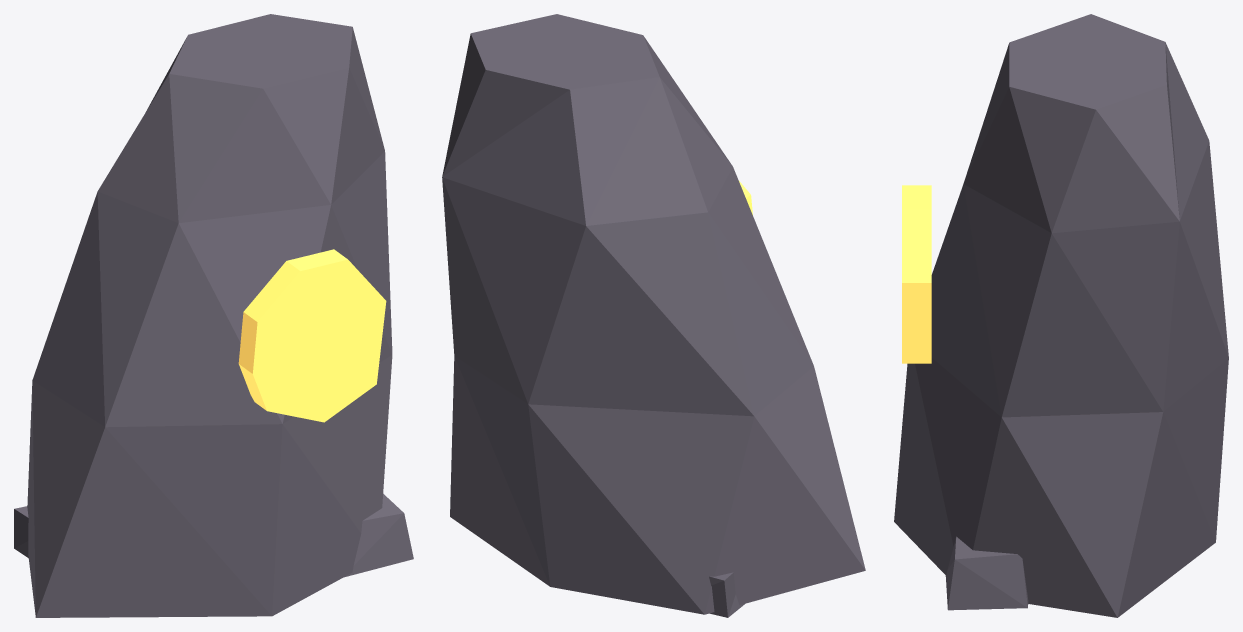
File: CR_GlyphStone.fbx
3 renders of one model, left to right at view 1: azimuth 30°, elevation 25°; view 2: azimuth 150°, elevation 25°; view 3: azimuth 270°, elevation 25°, orthographic. The views are drawn at different scales.
Parts seen in each view (by area): view 1: CR_GlyphStone_Stone, CR_GlyphStone_Neon_Glyph; view 2: CR_GlyphStone_Stone; view 3: CR_GlyphStone_Stone, CR_GlyphStone_Neon_Glyph.
Boxes of the visible parts, x1=… form: CR_GlyphStone_Stone: x1=14, y1=14, x2=413, y2=617; CR_GlyphStone_Neon_Glyph: x1=238, y1=249, x2=386, y2=422; CR_GlyphStone_Stone: x1=442, y1=14, x2=865, y2=617; CR_GlyphStone_Stone: x1=894, y1=14, x2=1228, y2=617; CR_GlyphStone_Neon_Glyph: x1=902, y1=185, x2=931, y2=363.
Bounding box in the file's own units: 4 × 5 × 3.
